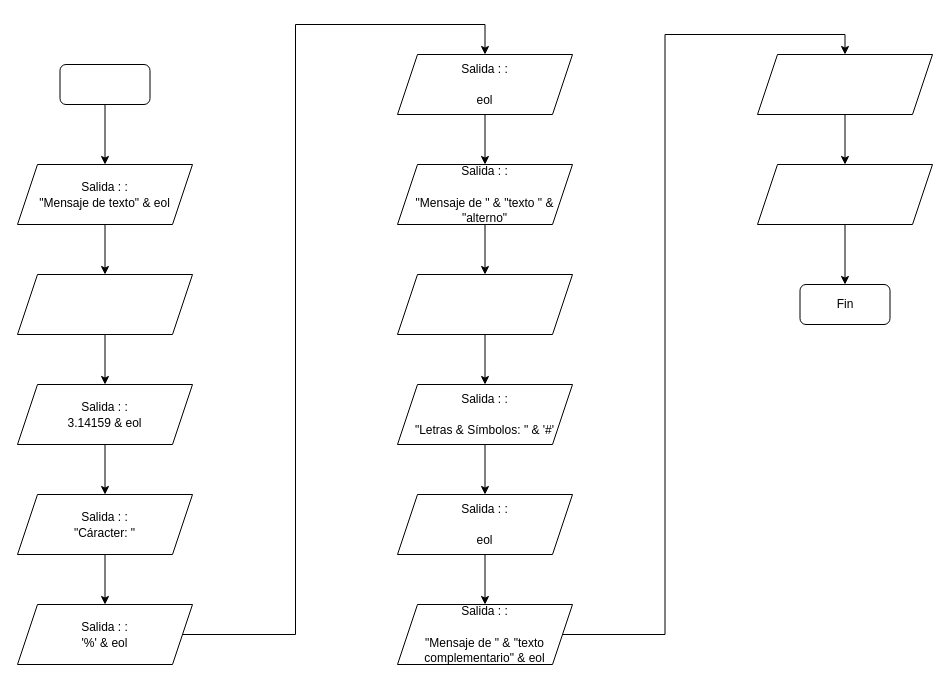
Some shapes in this 950 by 683 pixel diagram are drawn without their labels. The box of each missing label's shape, as (x1, y1, x2, y2) in pixels:
Inicio: (59, 64, 150, 104)
Salida : : "Imprimiendo números: " & 6.24855: (396, 274, 572, 334)
Salida : : "Letras y símbolos alternos: " & '&' & eol & ''@ & eol: (756, 164, 932, 224)
Salida : : "Número: ": (16, 274, 192, 334)
Salida : : "Números alternos: " & 6 & eol & 8 & eol: (756, 54, 932, 114)
